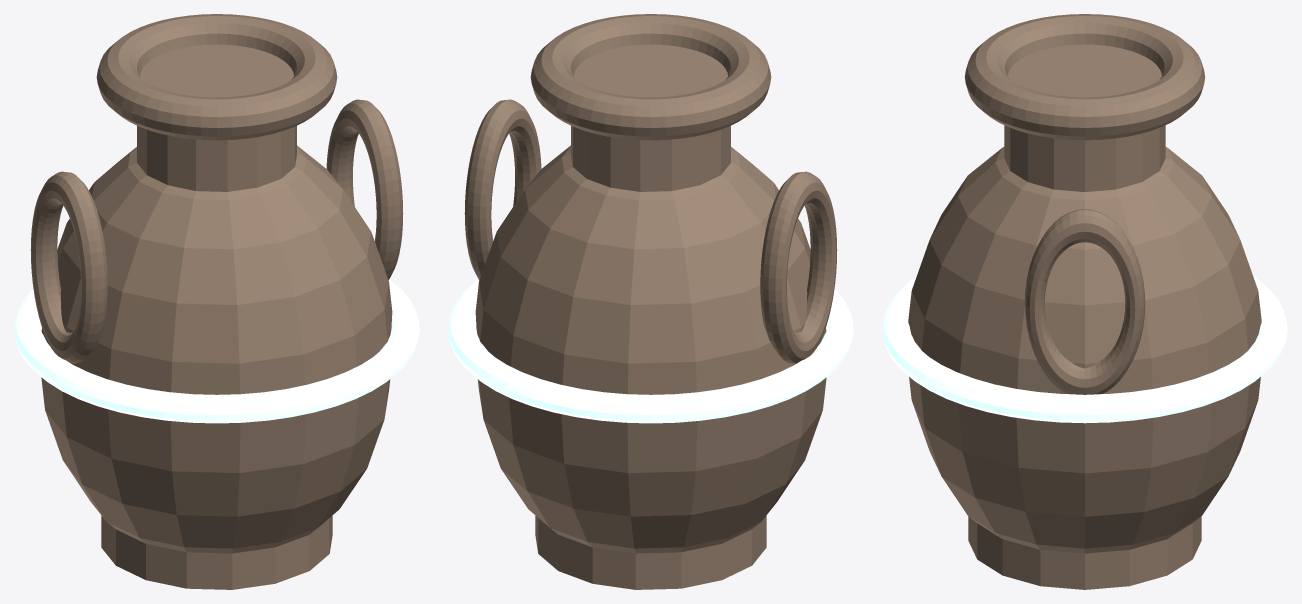
Rendered from SovereignCursedUrn.glb.
The picture shows the model from 3 angles, left to right: view 1: azimuth 30°, elevation 25°; view 2: azimuth 150°, elevation 25°; view 3: azimuth 270°, elevation 25°; orthographic projection.
Parts seen in each view (by area): view 1: SovereignCursedUrn; view 2: SovereignCursedUrn; view 3: SovereignCursedUrn.
Boxes of the visible parts, x1,y1,x2,y2 form: SovereignCursedUrn: [14, 14, 419, 589]; SovereignCursedUrn: [448, 14, 853, 589]; SovereignCursedUrn: [882, 14, 1287, 589].
Bounding box in the file's own units: 2.26 × 3.07 × 2.26.
